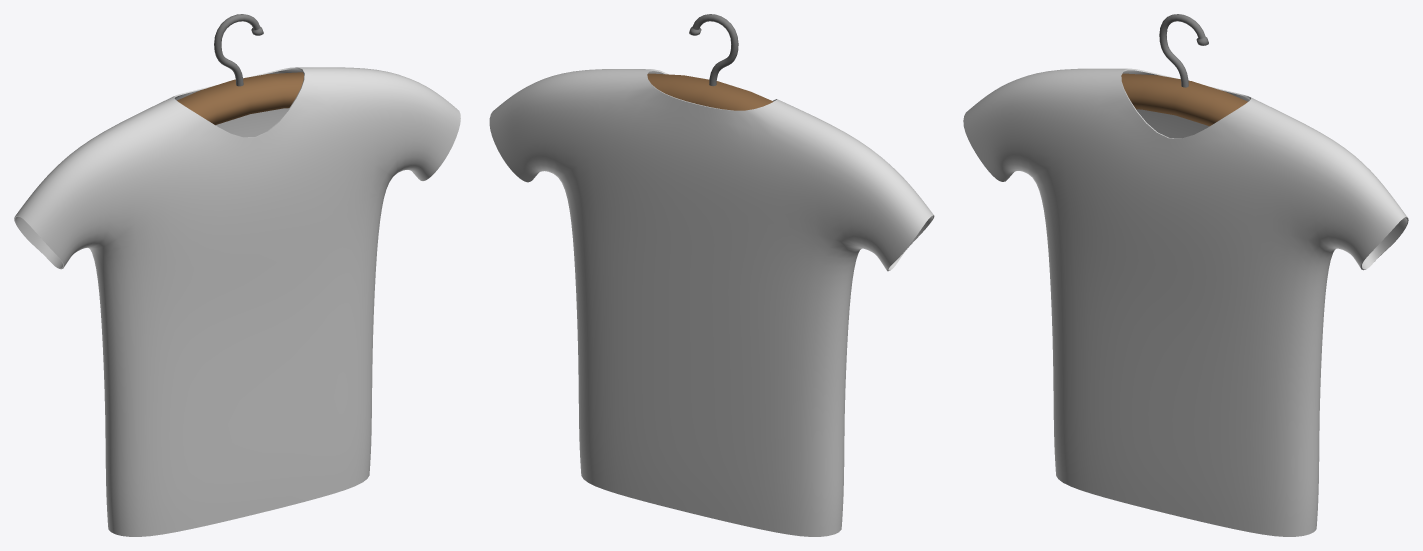
File: majca02.fbx
3 renders of one model, left to right at view 1: azimuth 30°, elevation 25°; view 2: azimuth 150°, elevation 25°; view 3: azimuth 330°, elevation 25°, orthographic.
Visible parts, largest first — view 1: override, Plane.001; view 2: override, Plane.001; view 3: override, Plane.001.
Part boxes in pixels (x1,y1,x2,y2): override: (14, 67, 460, 536); Plane.001: (177, 14, 303, 125); override: (489, 69, 934, 536); Plane.001: (647, 14, 773, 110); override: (963, 68, 1408, 536); Plane.001: (1121, 14, 1247, 126).
Bounding box in the file's own units: 48.8 × 51.85 × 7.43.
